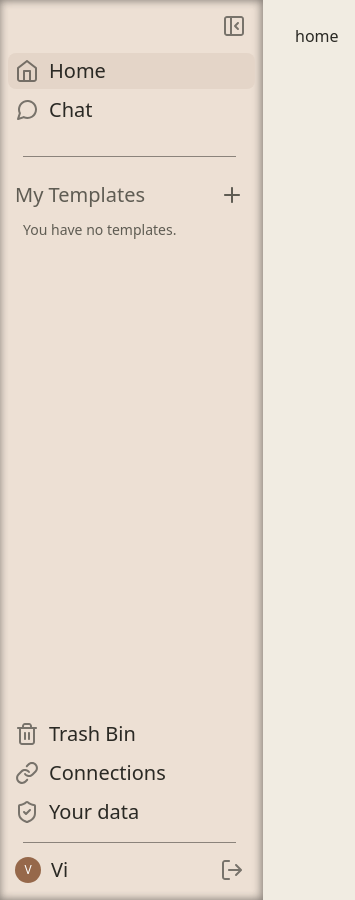
App shell › reports a failed sign-out and stays signed in rather than pretending it worked
Click the button without text next to "Vi" at (232, 870), box [214, 853, 248, 887]
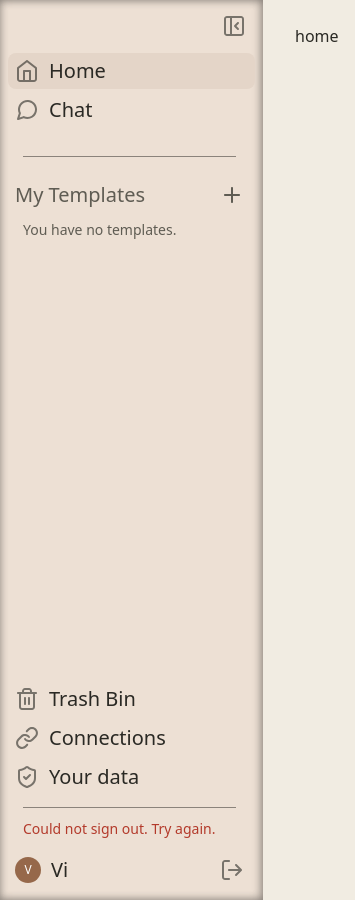
Result: the message "Could not sign out. Try again." is shown at [23, 819, 215, 838]
